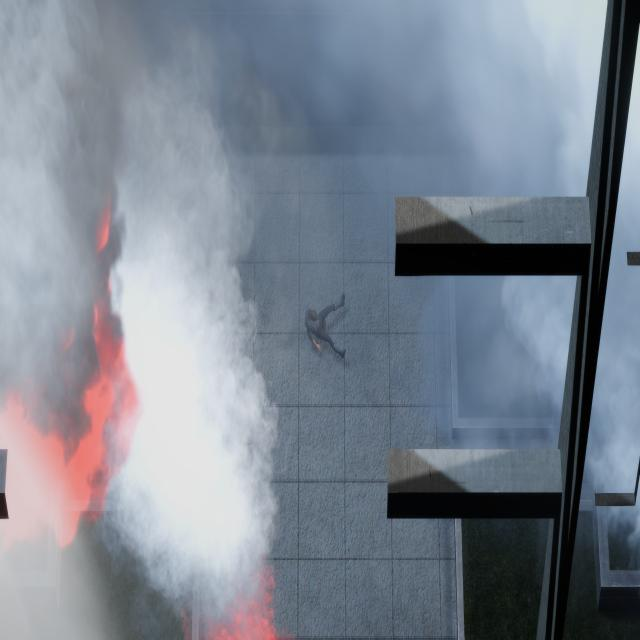Human: (294, 286, 358, 376)
